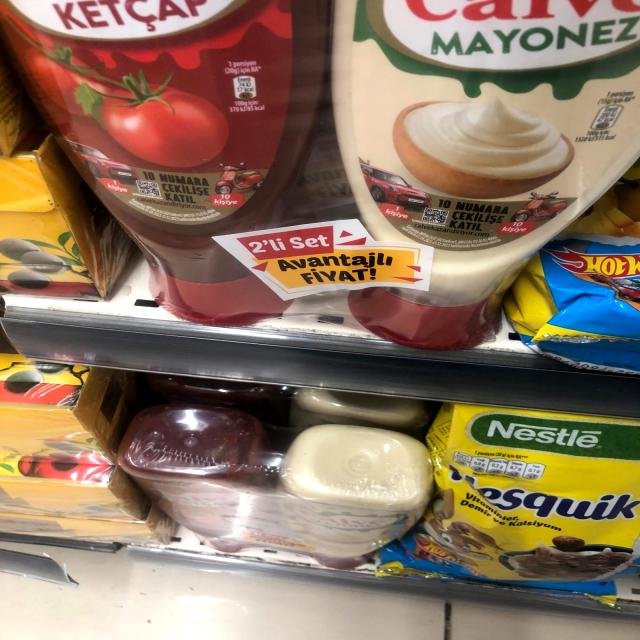ketchup: (0, 0, 332, 321)
mayonnaise: (333, 0, 640, 358)
